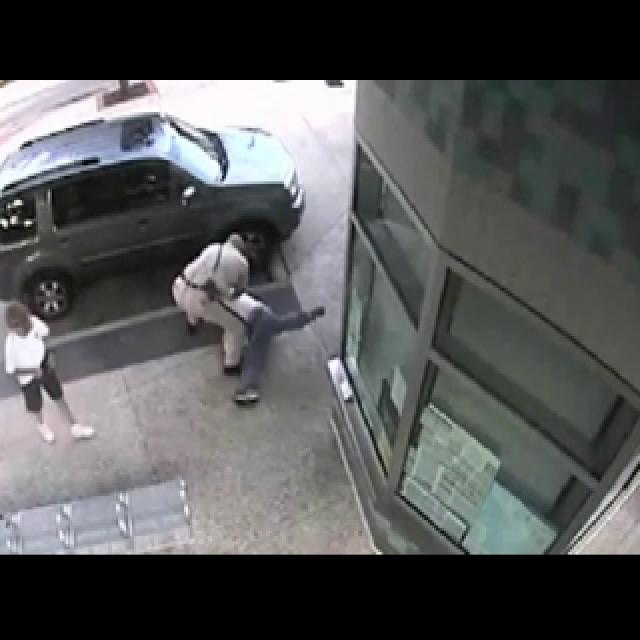arrest: (175, 183, 313, 449)
